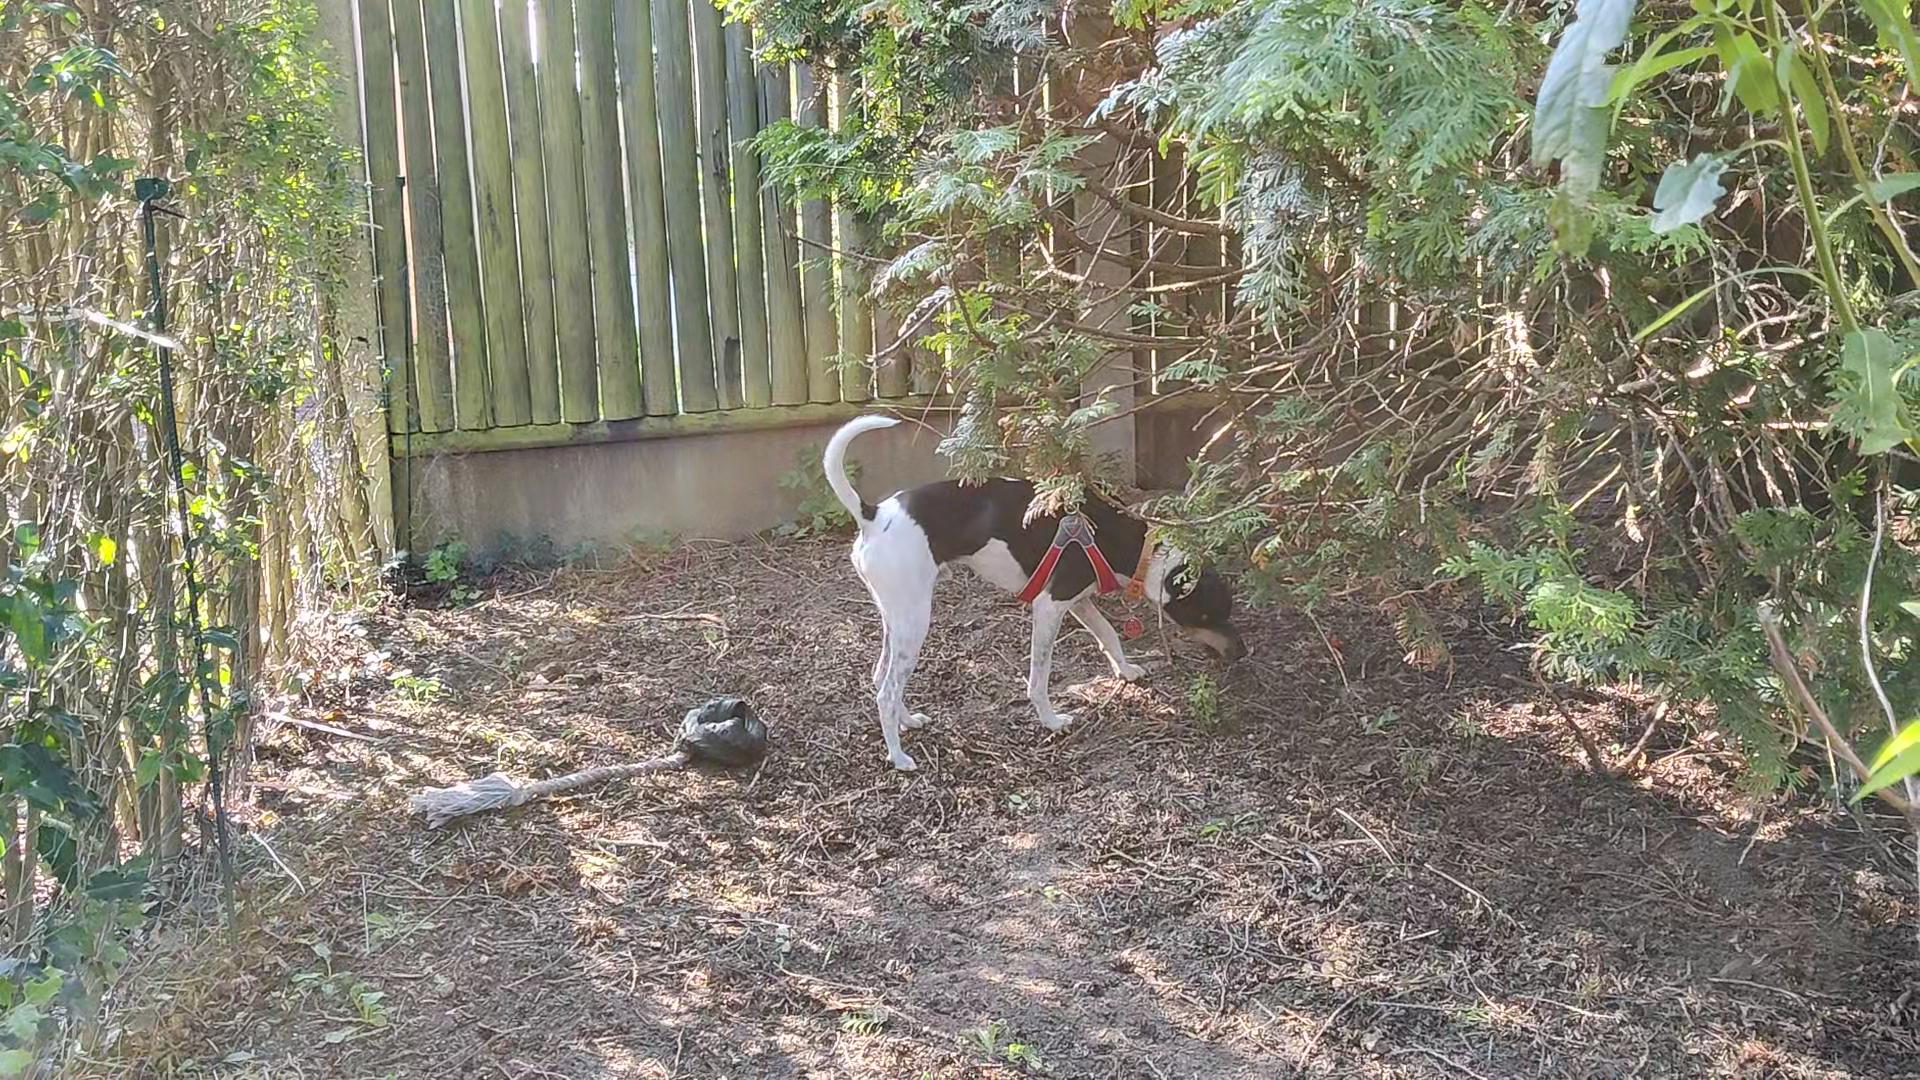Dog: (806, 392, 1259, 781)
